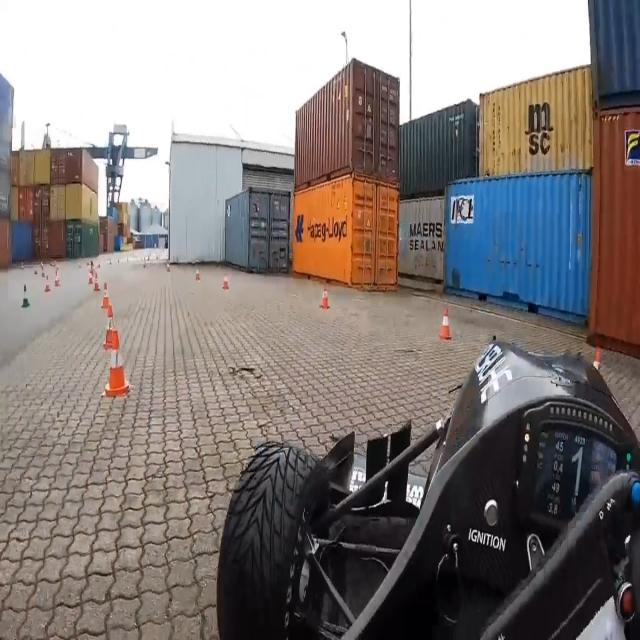Green cone: (14, 276, 36, 321)
Orange cone: (94, 339, 130, 408), (429, 301, 461, 352), (100, 302, 122, 362), (584, 339, 610, 385), (313, 283, 338, 323), (214, 269, 237, 299), (39, 268, 56, 305), (83, 263, 102, 294), (101, 274, 114, 312), (52, 259, 64, 297), (190, 260, 204, 286), (162, 254, 174, 272)
